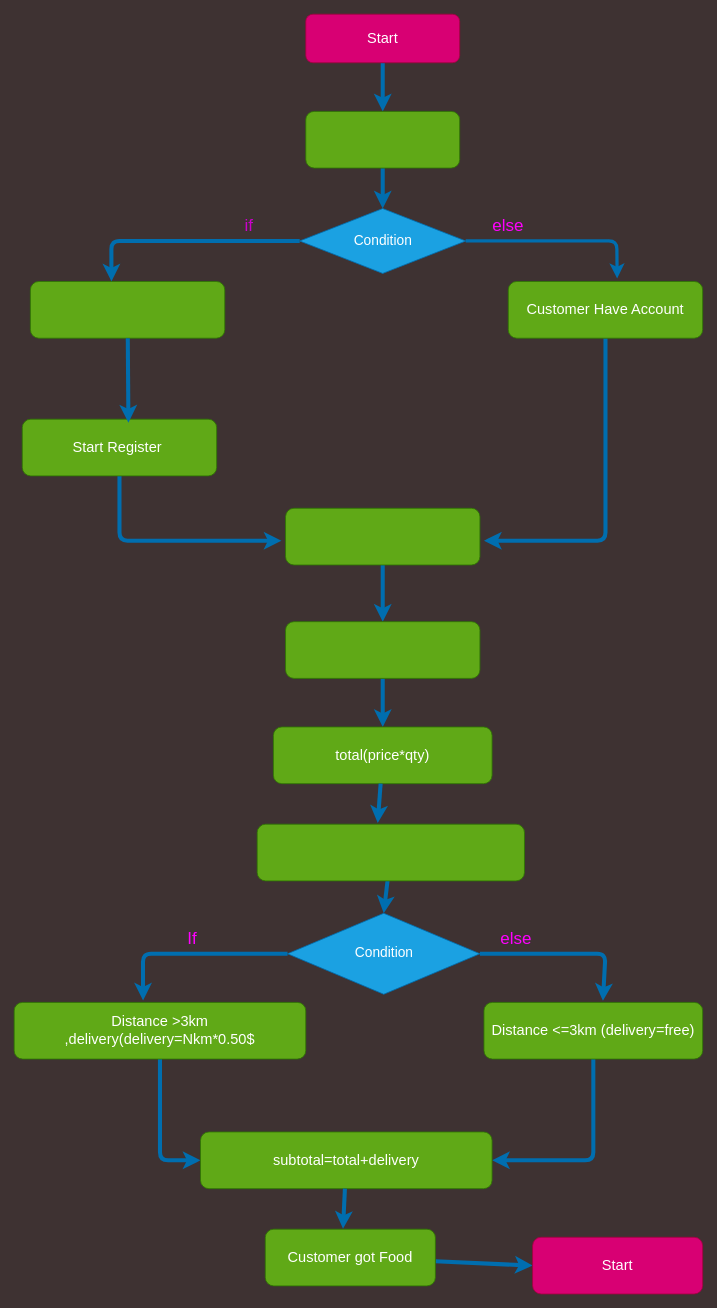
The diagram is 717 pixels wide and 1308 high, and some of its shapes have lost their labels. Here are the shapes that lost their labels. From the top down, the centre of each, then its label:
At (382,139): "Customer".
At (127,309): "Customer No Have Account".
At (382,536): "Start Order".
At (382,649): "Select Food".
At (390,852): "customer start track location".
